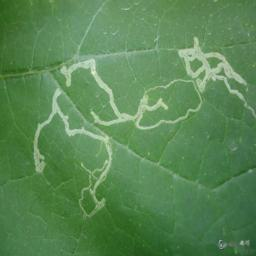liriomyza: (31, 34, 256, 219)
